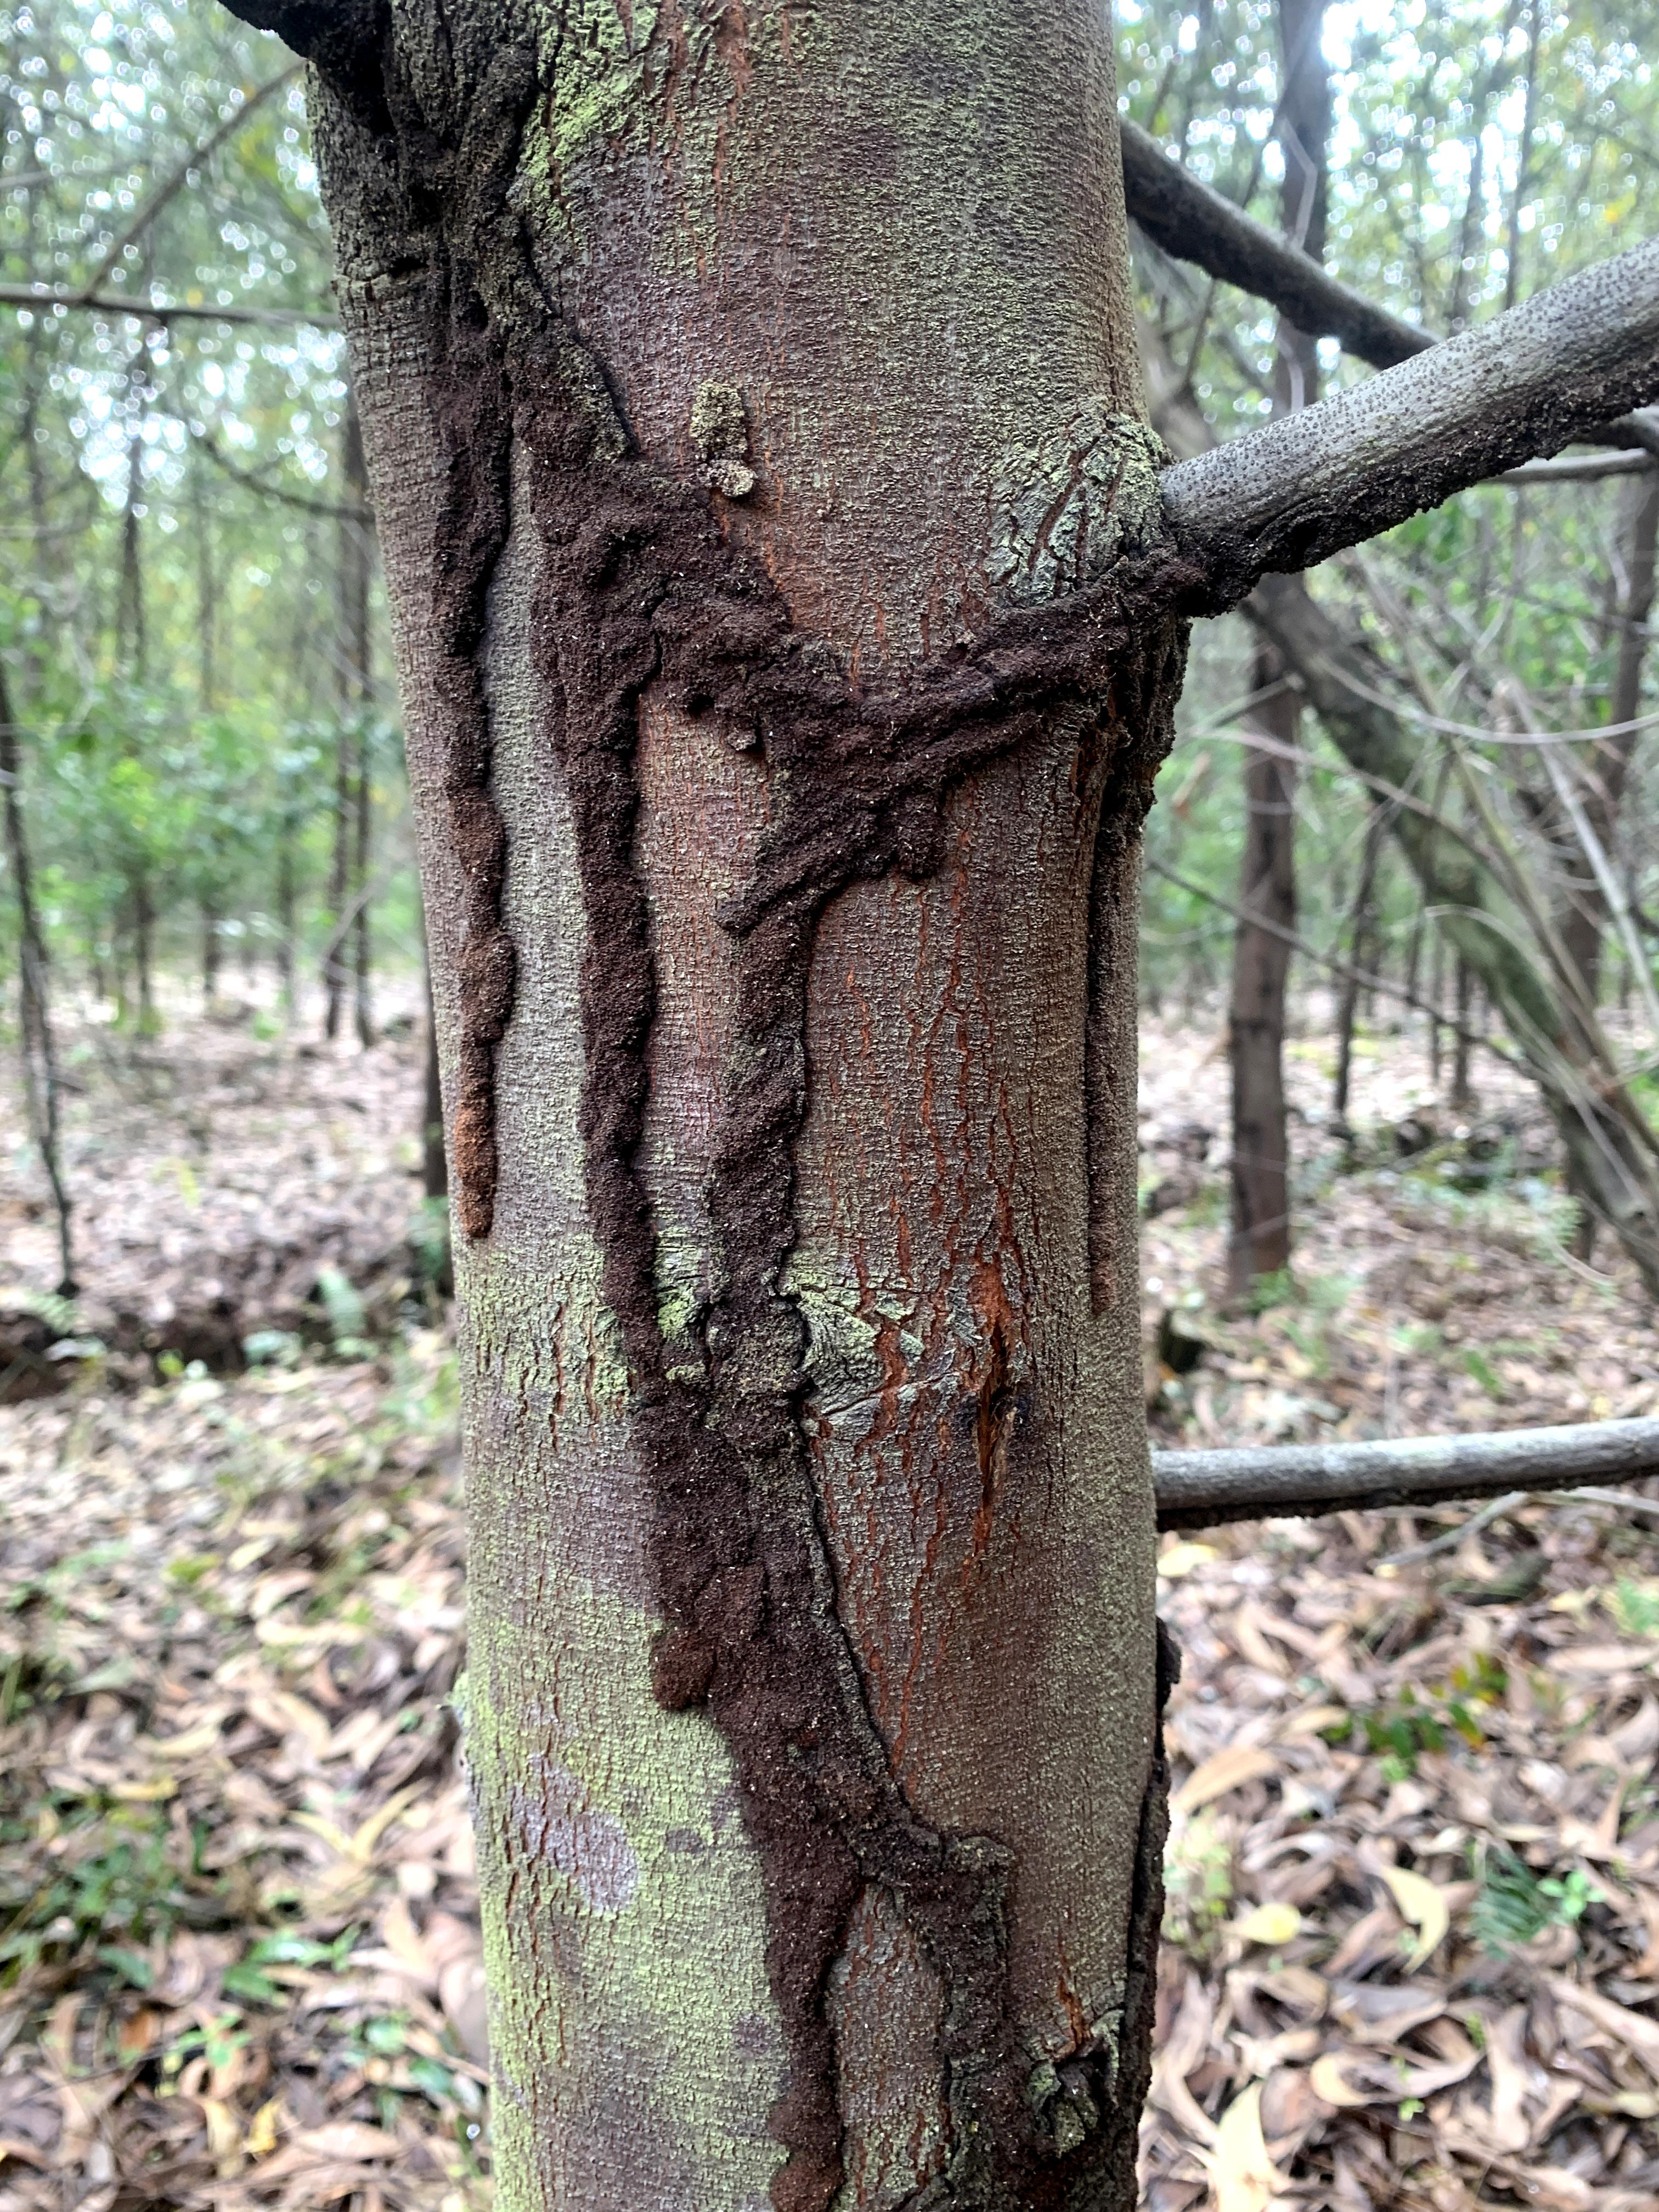Termite - Nest: (406, 169, 1054, 2135)
